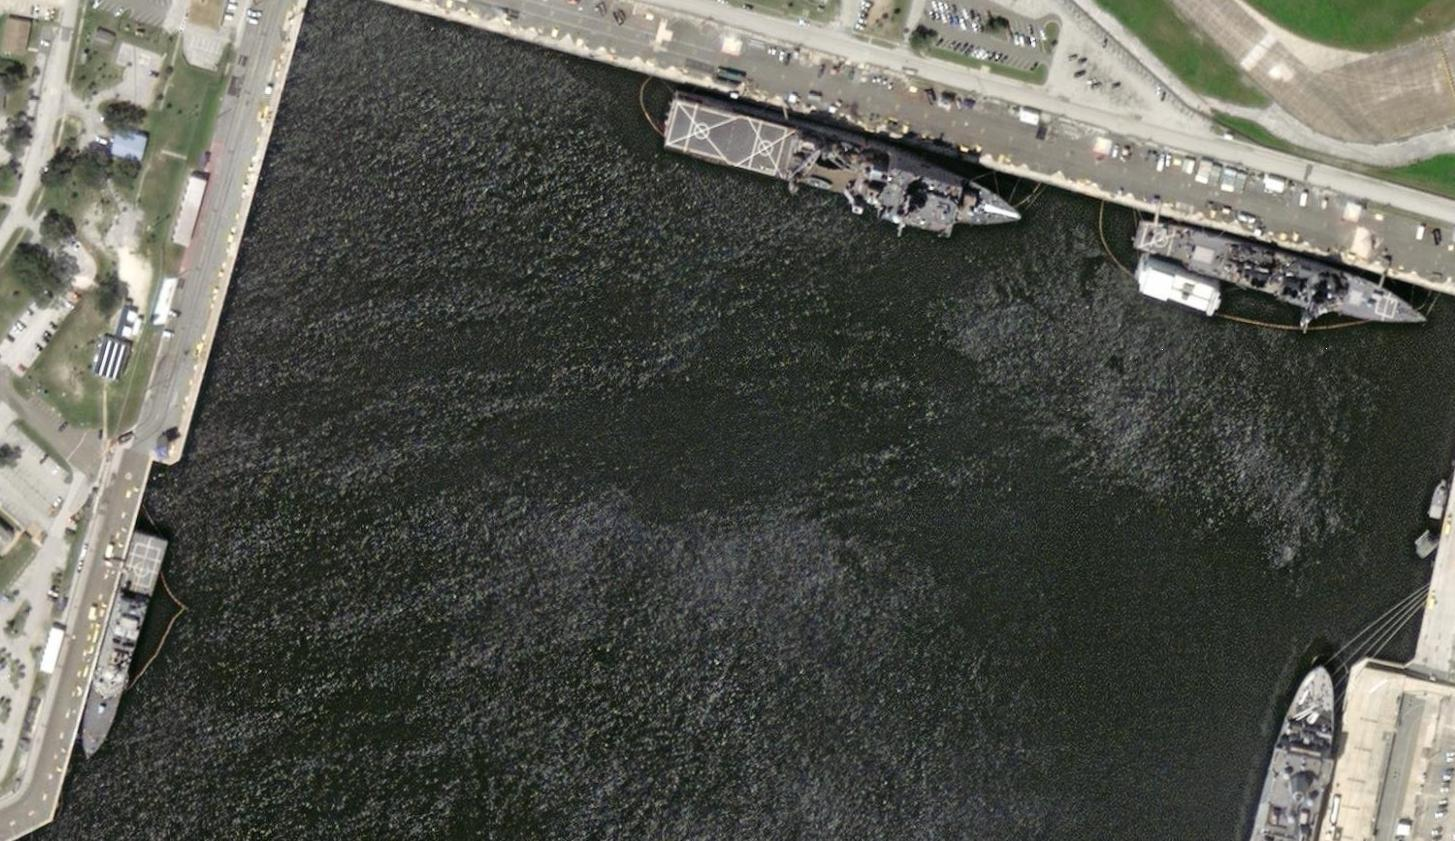amphiby: (646, 84, 1029, 246)
fregate: (1125, 207, 1430, 336)
patrol: (71, 527, 178, 774)
